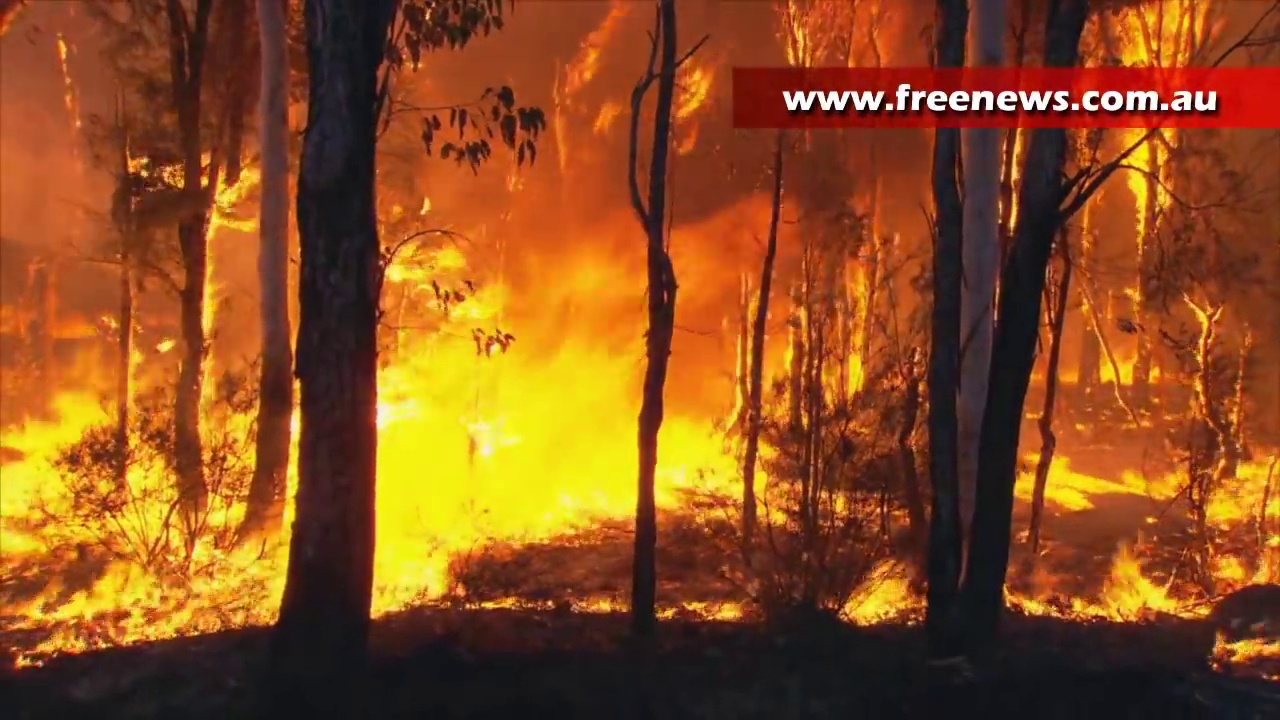fire: (366, 309, 640, 613), (1, 388, 266, 659), (1014, 449, 1181, 515), (1203, 451, 1280, 588), (1099, 553, 1182, 624), (1121, 3, 1208, 63), (835, 562, 912, 628), (1125, 129, 1172, 213), (392, 238, 466, 276), (211, 164, 252, 227), (1207, 632, 1280, 663), (680, 67, 713, 109), (693, 597, 742, 619), (204, 279, 221, 339), (154, 339, 173, 351), (58, 42, 69, 61)
